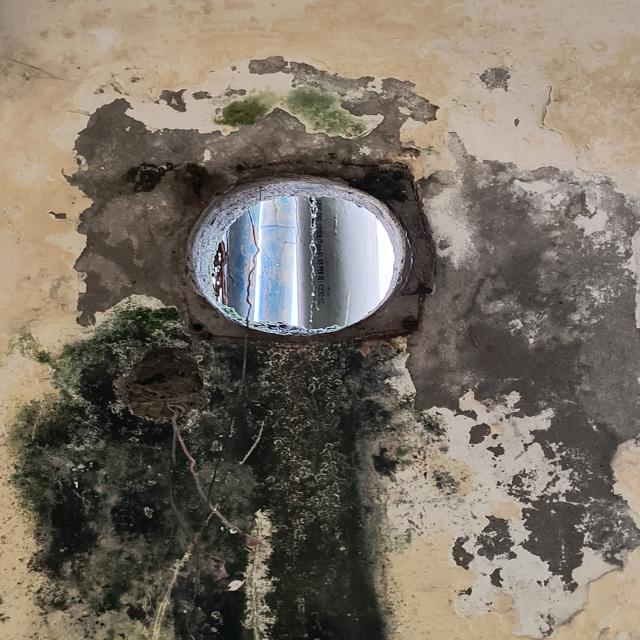Moss growth due to damping: (13, 300, 445, 640), (215, 86, 369, 139)
Scaling: (409, 152, 640, 638), (71, 101, 435, 344), (250, 56, 438, 144)
